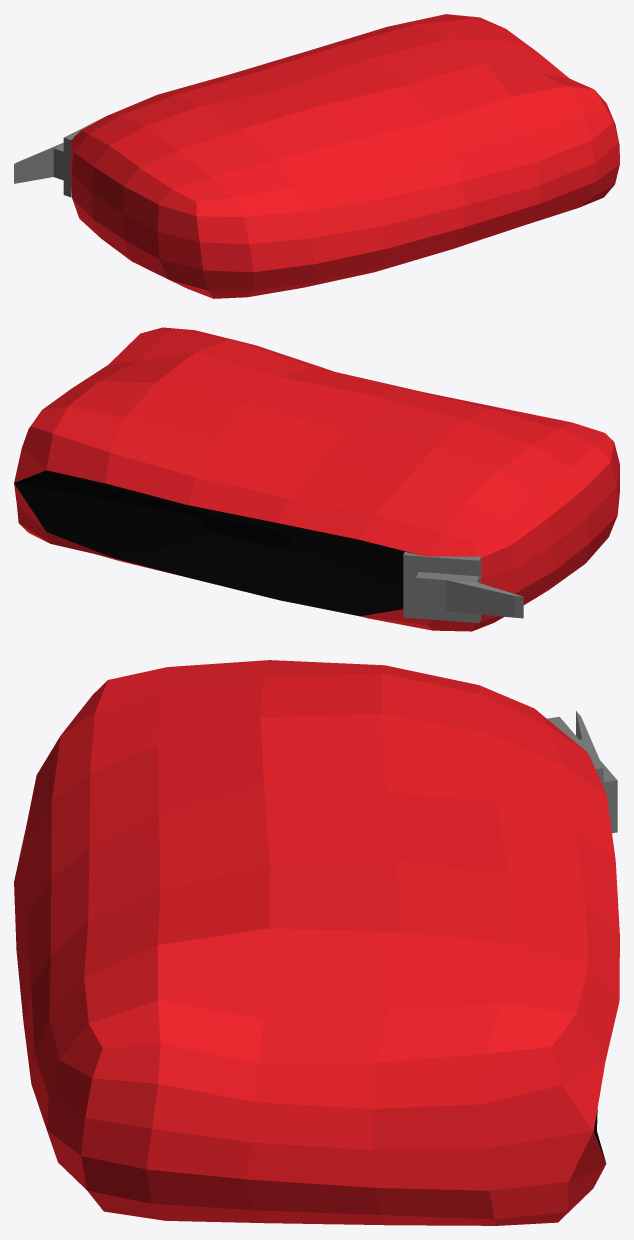
Rendered from SharpenerPouch.fbx.
The picture shows the model from 3 angles, top to bottom: view 1: azimuth 30°, elevation 25°; view 2: azimuth 150°, elevation 25°; view 3: azimuth 270°, elevation 25°; orthographic projection. The views are drawn at different scales.
Parts seen in each view (by area): view 1: Bag; view 2: Bag; view 3: Bag.
Boxes of the visible parts, box(x1,y1,x2,y2) form: Bag: box(14, 14, 619, 298); Bag: box(14, 327, 619, 631); Bag: box(14, 660, 619, 1225).
Bounding box in the file's own units: 469 × 804 × 214.
Materials: 1 (1 with a texture image).
